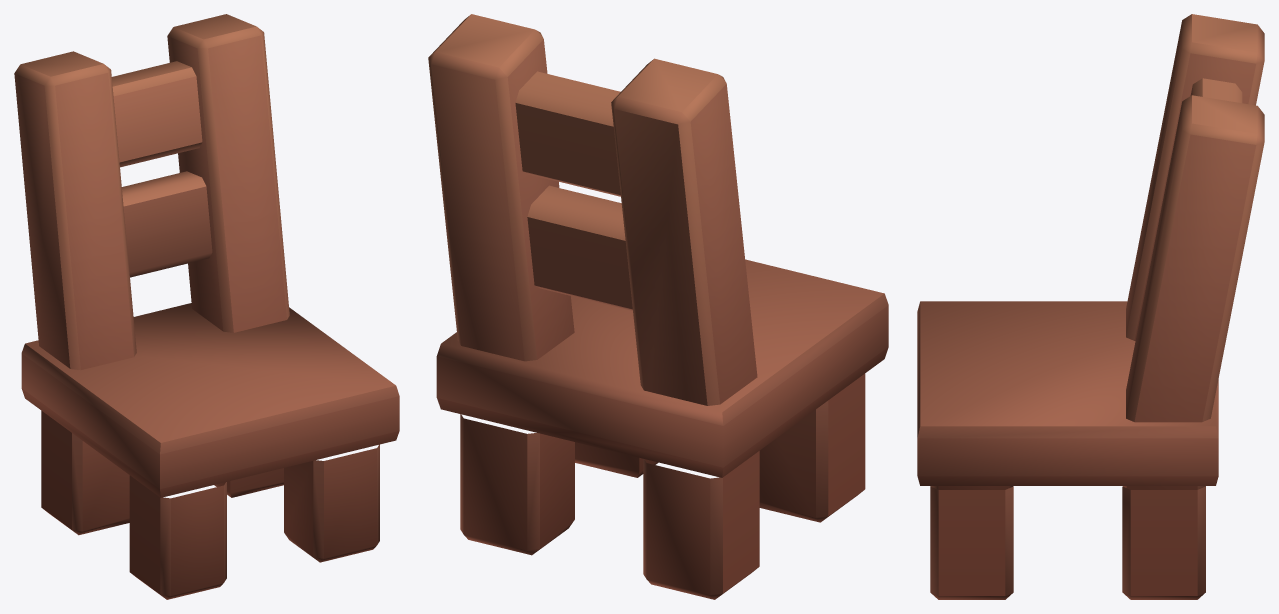
The model's file is chair_A_wood_Mid.glb.
3 renders of one model, left to right at view 1: azimuth 30°, elevation 25°; view 2: azimuth 150°, elevation 25°; view 3: azimuth 270°, elevation 25°, orthographic. The views are drawn at different scales.
Parts seen in each view (by area): view 1: chair_A_wood; view 2: chair_A_wood; view 3: chair_A_wood.
Boxes of the visible parts, left/top/right/bottom form: chair_A_wood: left=14, top=14, right=399, bottom=599; chair_A_wood: left=428, top=14, right=888, bottom=599; chair_A_wood: left=917, top=14, right=1264, bottom=599.
Size of the model in its own units: 0.7207 by 1.26 by 0.8305.
Materials: 1 (1 with a texture image).
